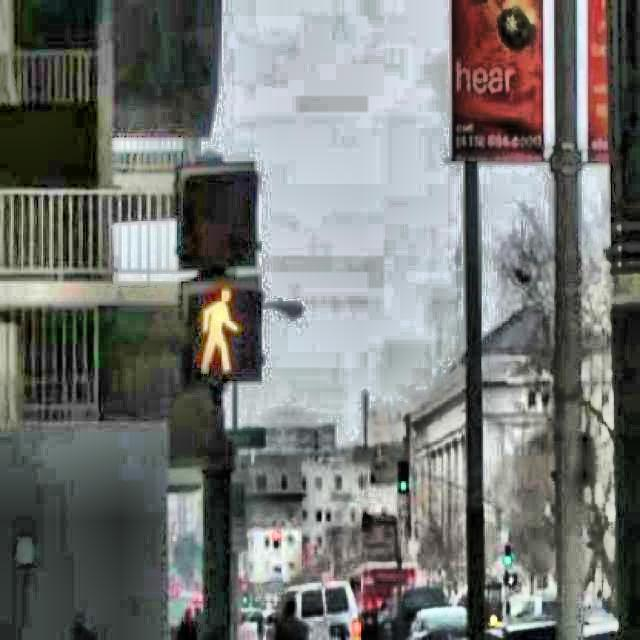semaforo pedestre: (130, 102, 322, 455)
